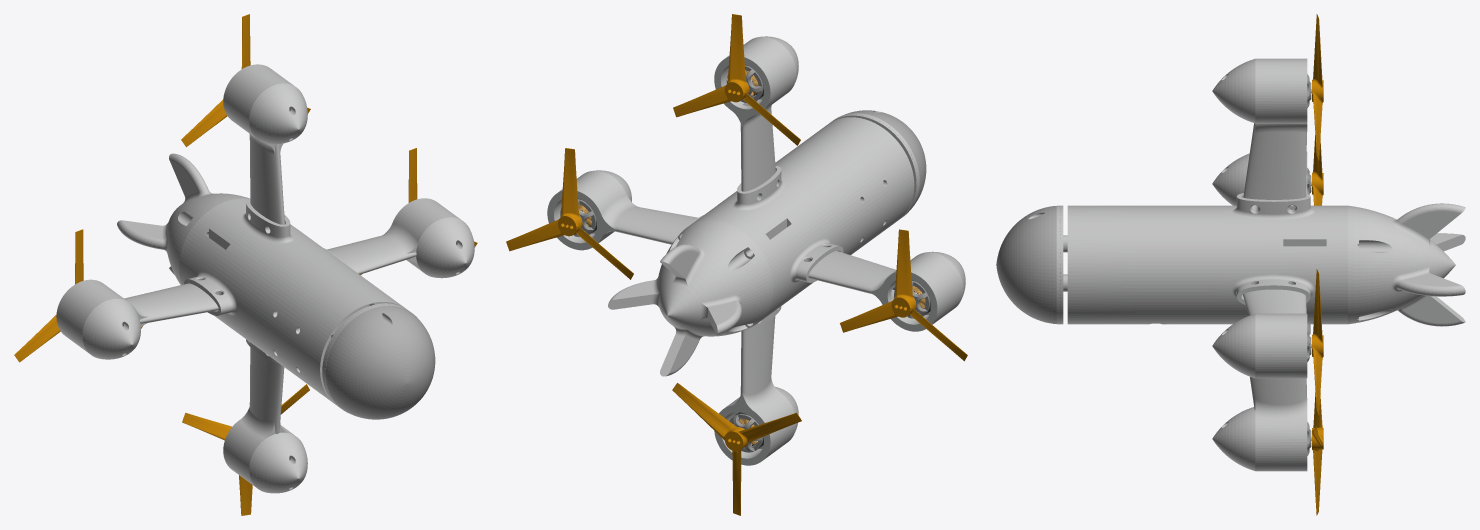
Rendered from drone-assembly-v1.glb.
3 renders of one model, left to right at view 1: azimuth 30°, elevation 25°; view 2: azimuth 150°, elevation 25°; view 3: azimuth 270°, elevation 25°, orthographic.
Visible parts, largest first — view 1: empty_2; view 2: empty_2; view 3: empty_2.
Boxes of the visible parts, x1,y1,x2,y2 form: empty_2: (14,14,477,515); empty_2: (506,14,967,515); empty_2: (996,14,1465,515).
Bounding box in the file's own units: 0.2465 × 0.2545 × 0.2174.
